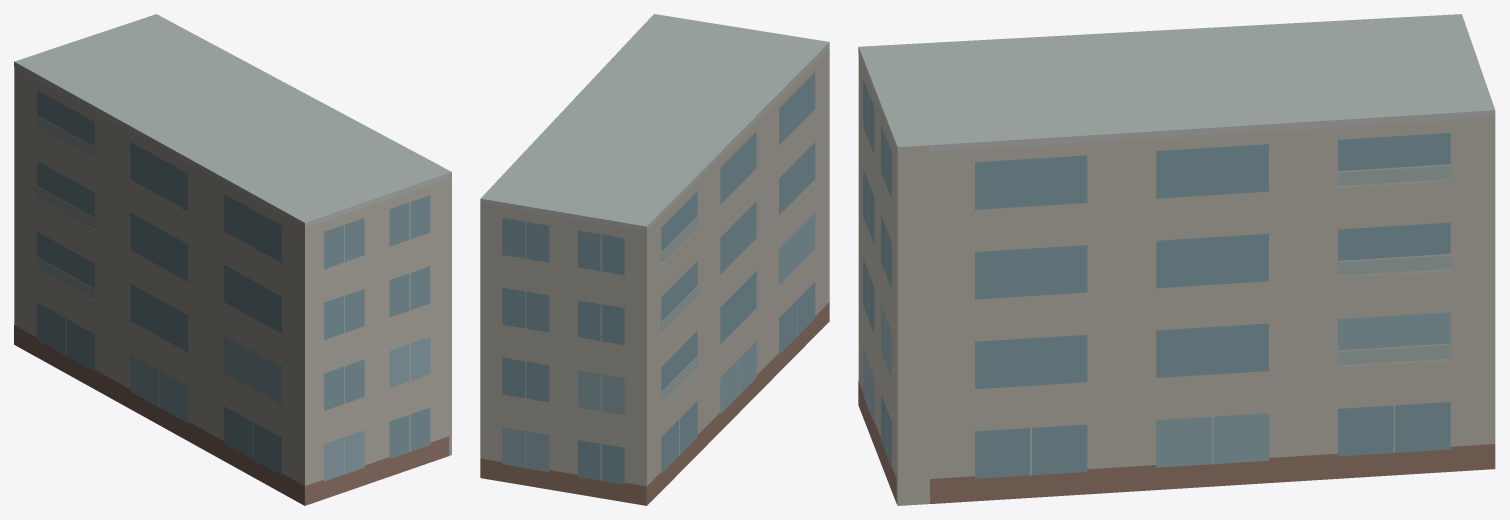
File: survey-upis-32720432.glb
The picture shows the model from 3 angles, left to right: view 1: azimuth 30°, elevation 25°; view 2: azimuth 150°, elevation 25°; view 3: azimuth 270°, elevation 25°; orthographic projection. The views are drawn at different scales.
Visible parts, largest first — view 1: survey-upis-32720432.tmp; view 2: survey-upis-32720432.tmp; view 3: survey-upis-32720432.tmp.
Boxes of the visible parts, box(x1,y1,x2,y2) form: survey-upis-32720432.tmp: box(14, 14, 451, 505); survey-upis-32720432.tmp: box(480, 14, 829, 505); survey-upis-32720432.tmp: box(858, 14, 1495, 505).
Bounding box in the file's own units: 10.51 × 13.2 × 21.24.
